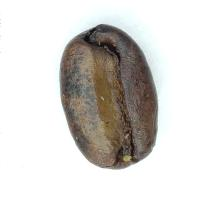NG: (63, 35, 147, 167)
